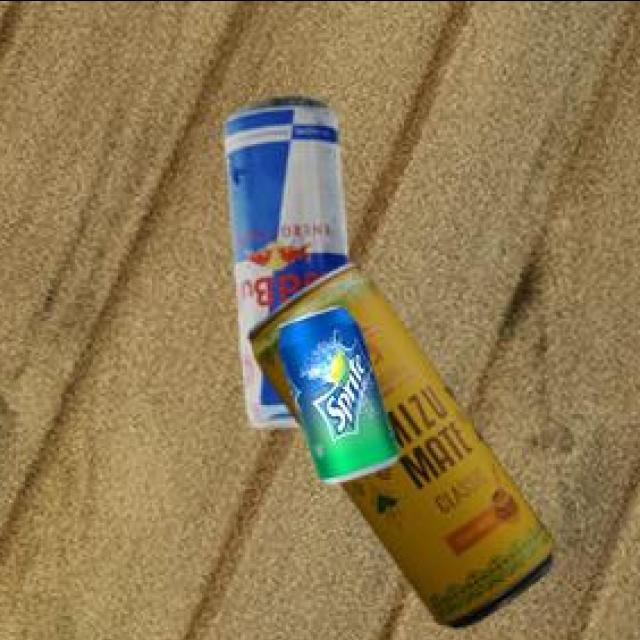logam: (246, 264, 550, 628), (221, 101, 344, 430), (276, 311, 394, 487)
